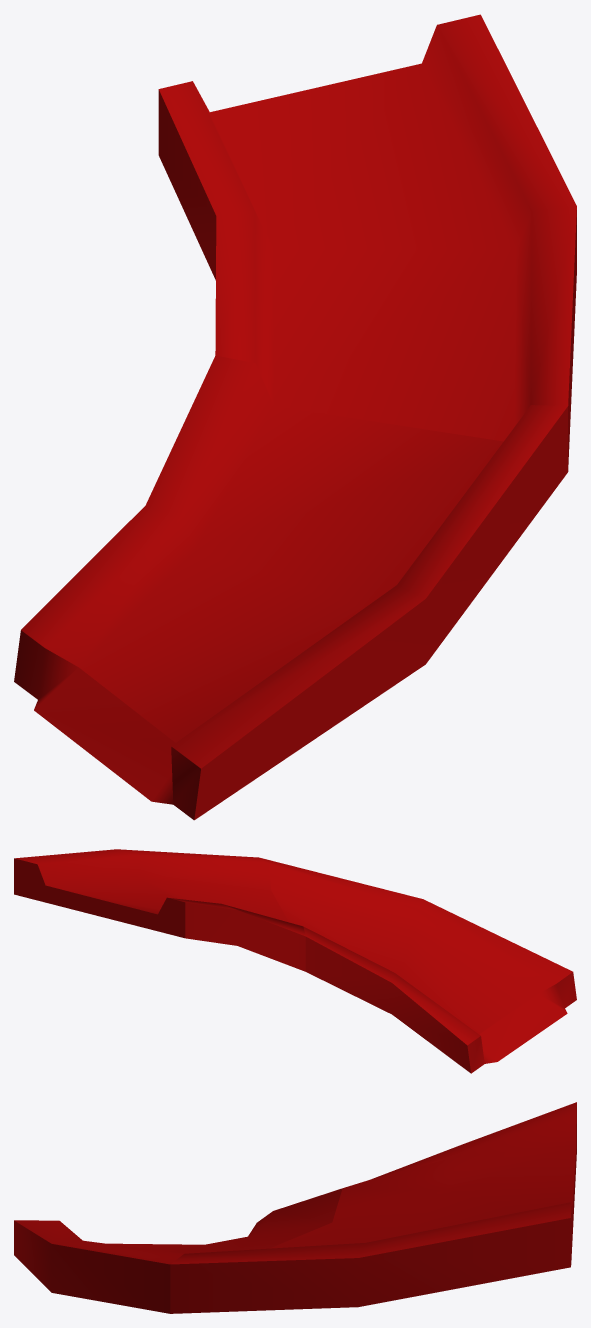
The model's file is SM_Env_SpiralStairs_02_Collision.glb.
The picture shows the model from 3 angles, top to bottom: view 1: azimuth 30°, elevation 25°; view 2: azimuth 150°, elevation 25°; view 3: azimuth 270°, elevation 25°; orthographic projection. The views are drawn at different scales.
Parts seen in each view (by area): view 1: SM_Env_SpiralStairs_02_Collision; view 2: SM_Env_SpiralStairs_02_Collision; view 3: SM_Env_SpiralStairs_02_Collision.
Part boxes in pixels (x1=…): SM_Env_SpiralStairs_02_Collision: x1=14, y1=14, x2=576, y2=820; SM_Env_SpiralStairs_02_Collision: x1=14, y1=849, x2=576, y2=1073; SM_Env_SpiralStairs_02_Collision: x1=14, y1=1102, x2=576, y2=1313.
Size of the model in its own units: 5.3 by 2.8 by 5.15.
